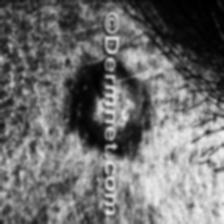Potentially Malignant Skin Tumors: (76, 59, 104, 155), (119, 68, 144, 140)
